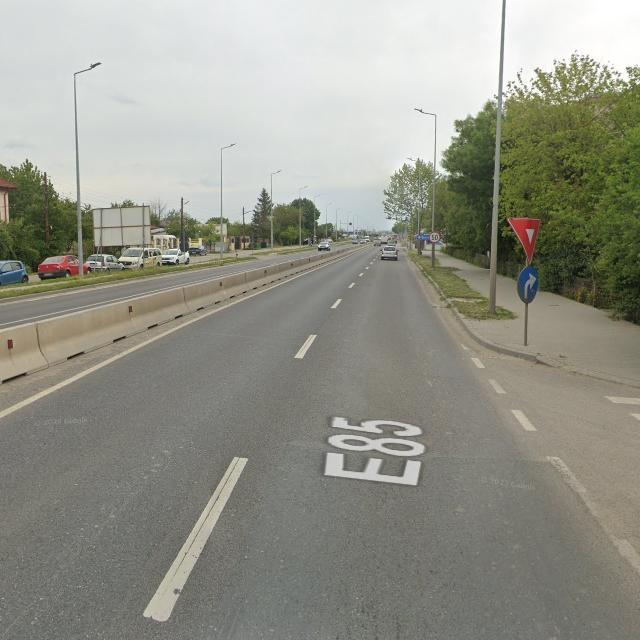prio_give_way: (508, 219, 543, 263)
